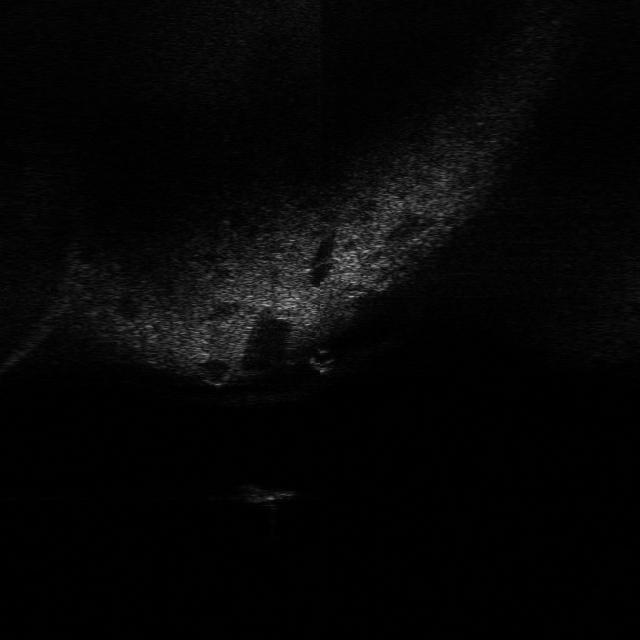ball: (302, 343, 342, 377)
cube: (227, 479, 301, 508)
